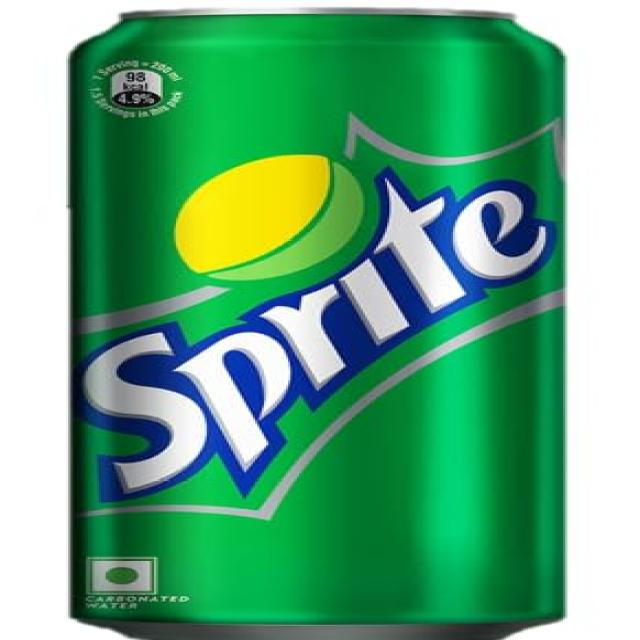sprite: (51, 0, 600, 638)
